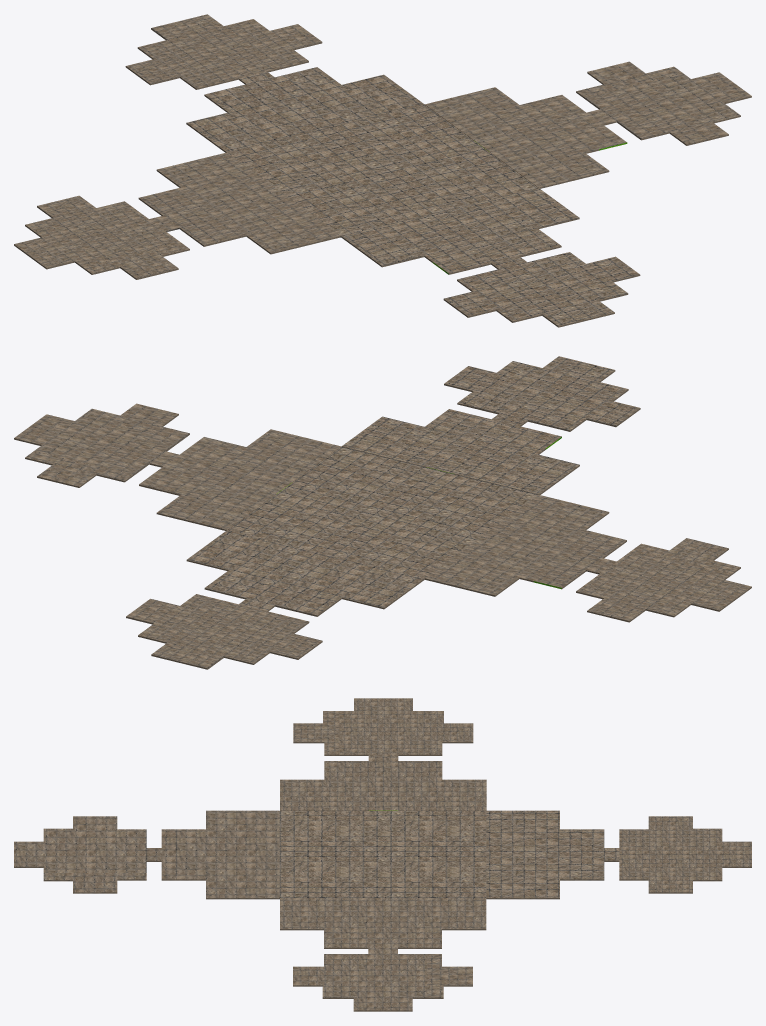
The model's file is Map2Floor.fbx.
3 renders of one model, top to bottom at view 1: azimuth 30°, elevation 25°; view 2: azimuth 150°, elevation 25°; view 3: azimuth 270°, elevation 25°, orthographic. The views are drawn at different scales.
Parts seen in each view (by area): view 1: Cube.004; view 2: Cube.004; view 3: Cube.004.
Boxes of the visible parts, x1,y1,x2,y2 form: Cube.004: (14, 14, 751, 327); Cube.004: (14, 356, 751, 669); Cube.004: (14, 698, 751, 1011).
Size of the model in its own units: 40714 by 82.91 by 40738.
